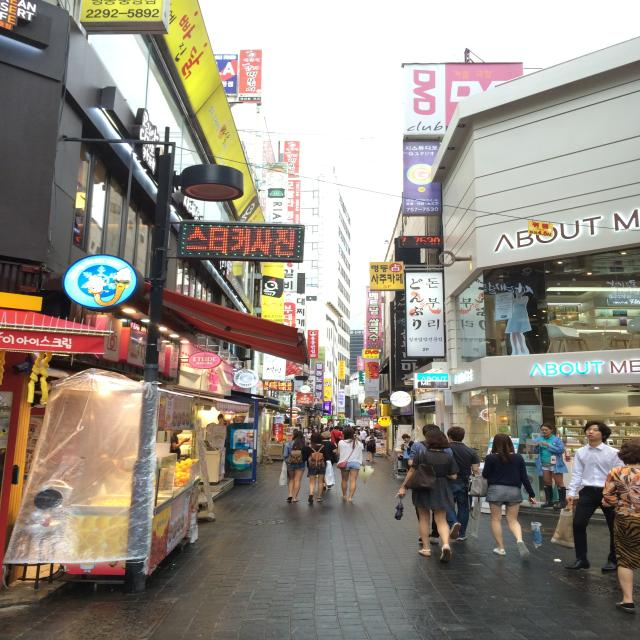body: (549, 421, 625, 573), (392, 428, 460, 564), (481, 433, 537, 559), (600, 437, 640, 613), (406, 423, 462, 542), (444, 426, 482, 542), (531, 421, 569, 511), (304, 431, 337, 505), (277, 429, 309, 503), (336, 427, 366, 502), (502, 285, 532, 356), (320, 431, 338, 490), (170, 430, 192, 463), (400, 433, 415, 473), (364, 431, 378, 462), (330, 426, 344, 445), (358, 427, 367, 450), (352, 428, 362, 443), (306, 428, 314, 446), (215, 414, 226, 426), (340, 423, 362, 428), (363, 426, 370, 437), (291, 428, 299, 437), (320, 424, 340, 427), (304, 426, 310, 435), (322, 427, 330, 433), (319, 427, 325, 432), (313, 429, 320, 433), (338, 428, 343, 433), (329, 427, 334, 432)
